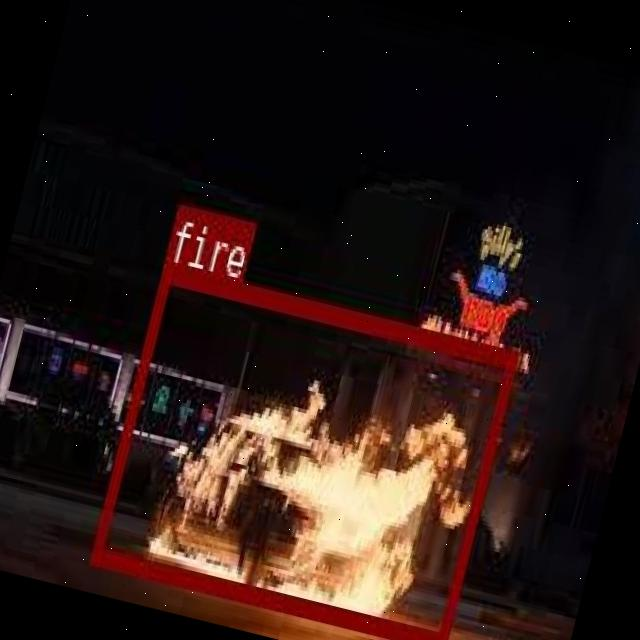fire: (89, 261, 518, 640)
